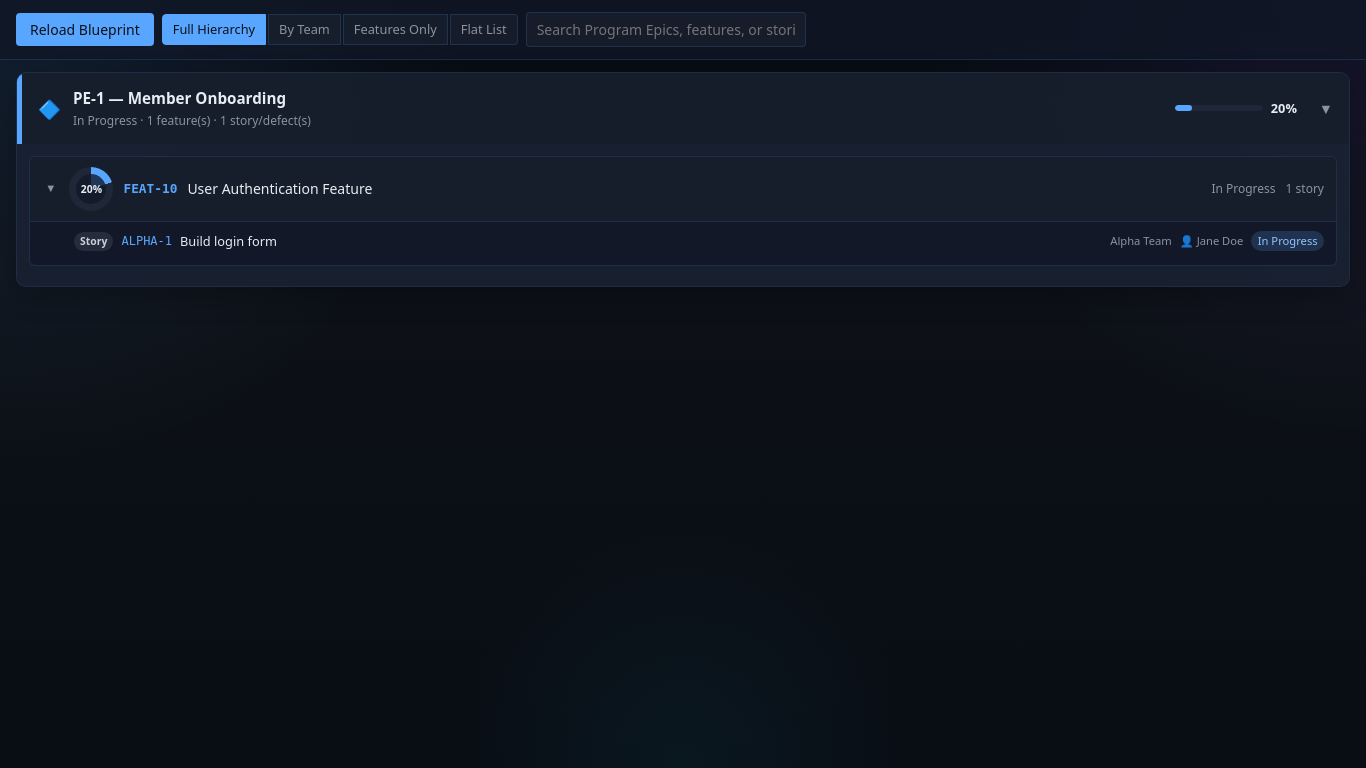
Test: BlueprintTab › collapses feature children when the chevron is clicked
Expected: the text "Build login form" is shown, [180, 232, 277, 250]
Click the button named "collapse feat-10".
click(51, 189)  # box [42, 177, 60, 200]
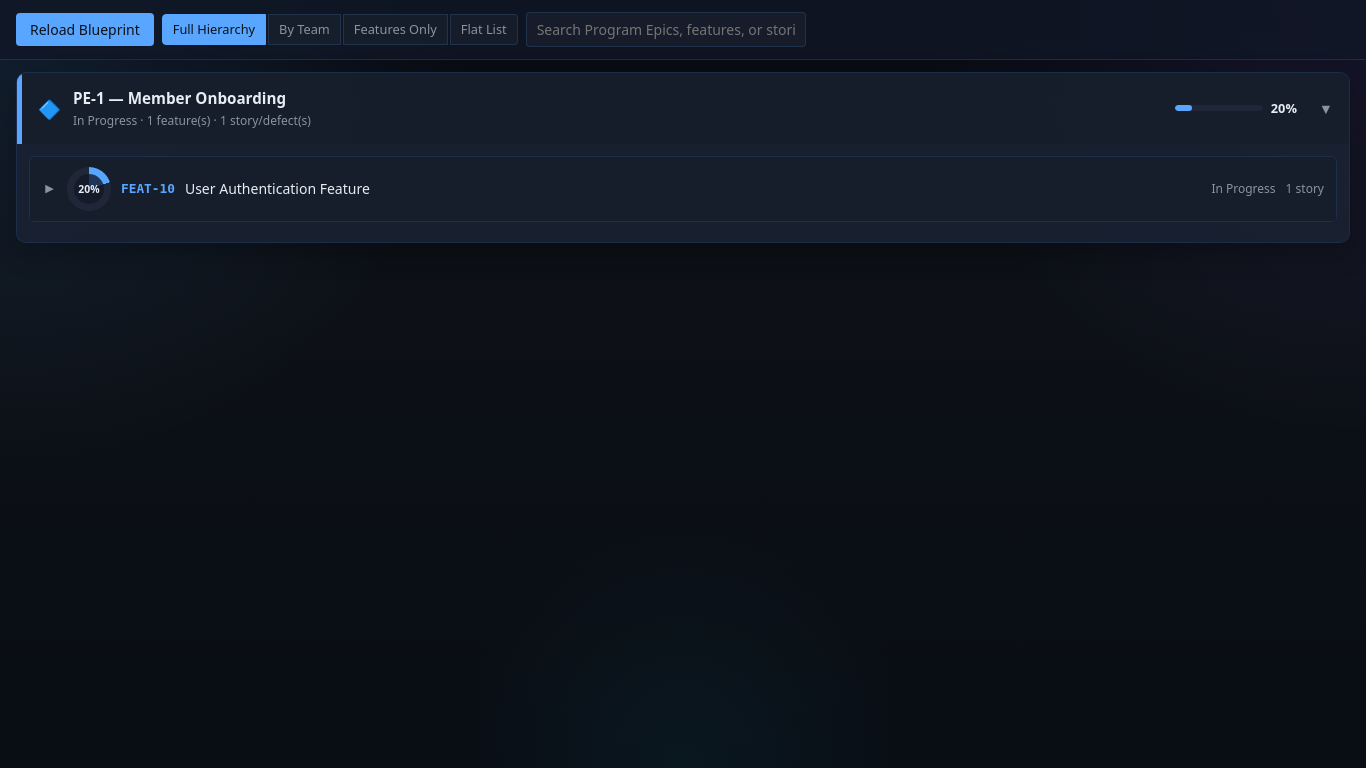
Now the text "Build login form" is gone
